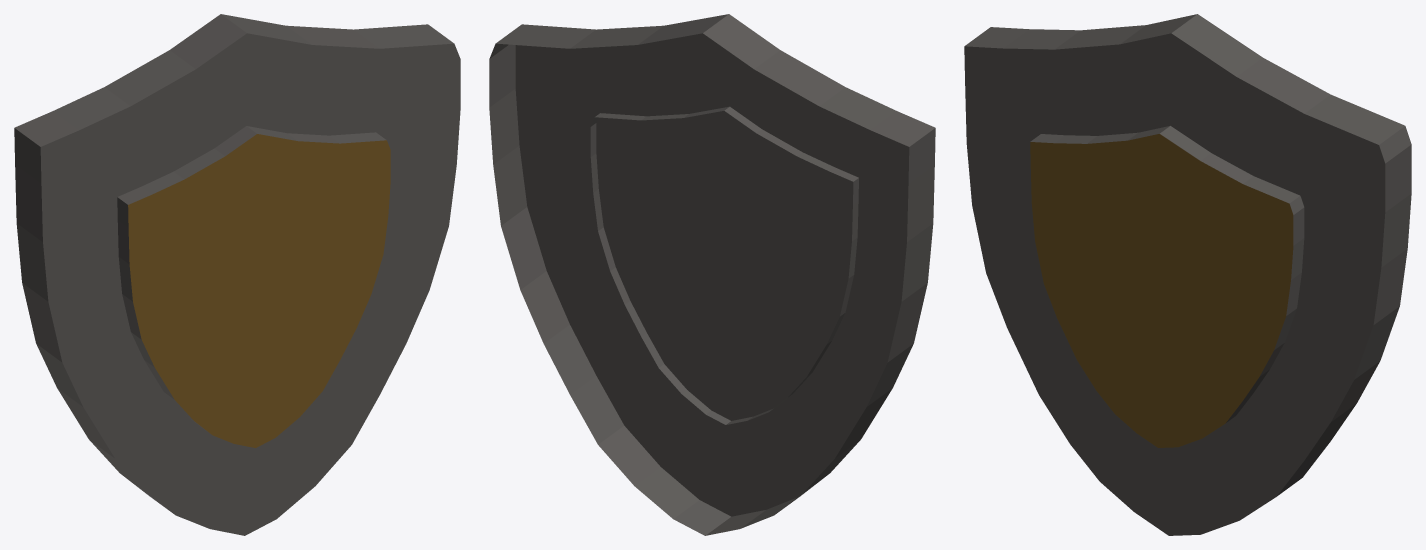
Rendered from shield.fbx.
3 renders of one model, left to right at view 1: azimuth 30°, elevation 25°; view 2: azimuth 150°, elevation 25°; view 3: azimuth 330°, elevation 25°, orthographic.
Parts seen in each view (by area): view 1: Plane; view 2: Plane; view 3: Plane.
Part boxes in pixels (x1,y1,x2,y2): Plane: (14, 14, 460, 535); Plane: (489, 14, 935, 535); Plane: (964, 14, 1411, 535).
Bounding box in the file's own units: 347 × 396 × 53.16.
